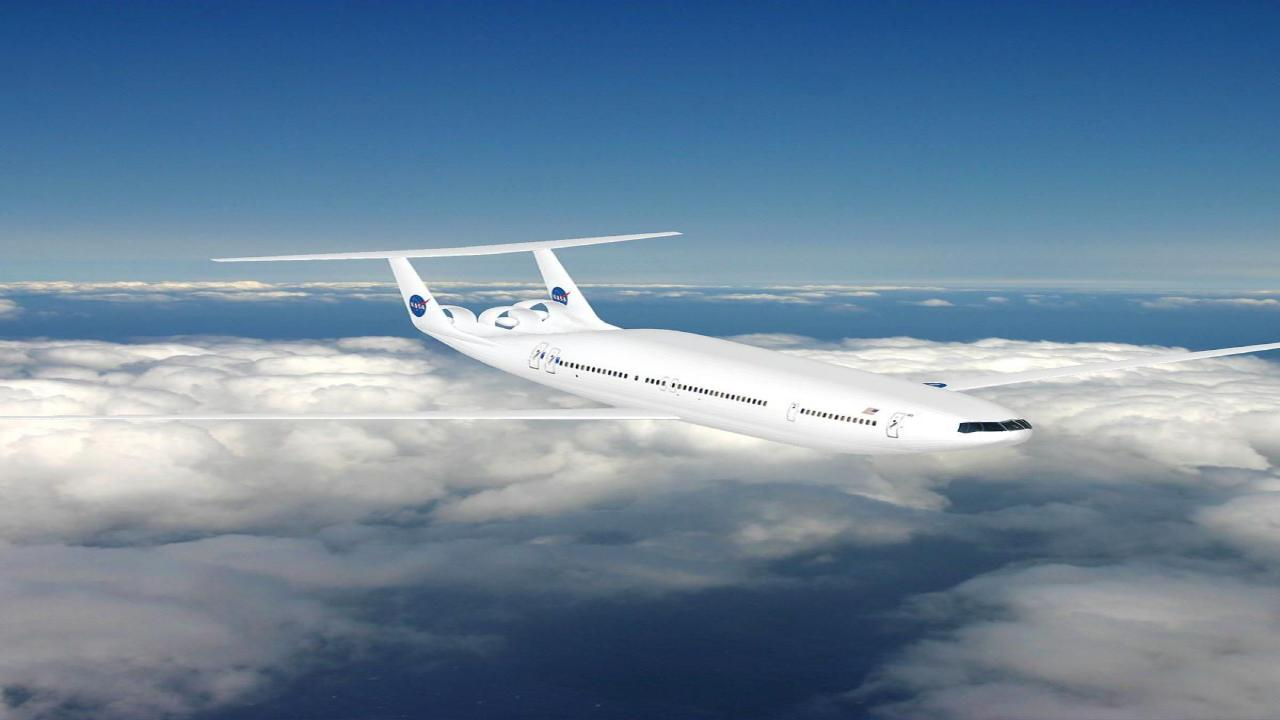Airplane: (44, 220, 1280, 472)
